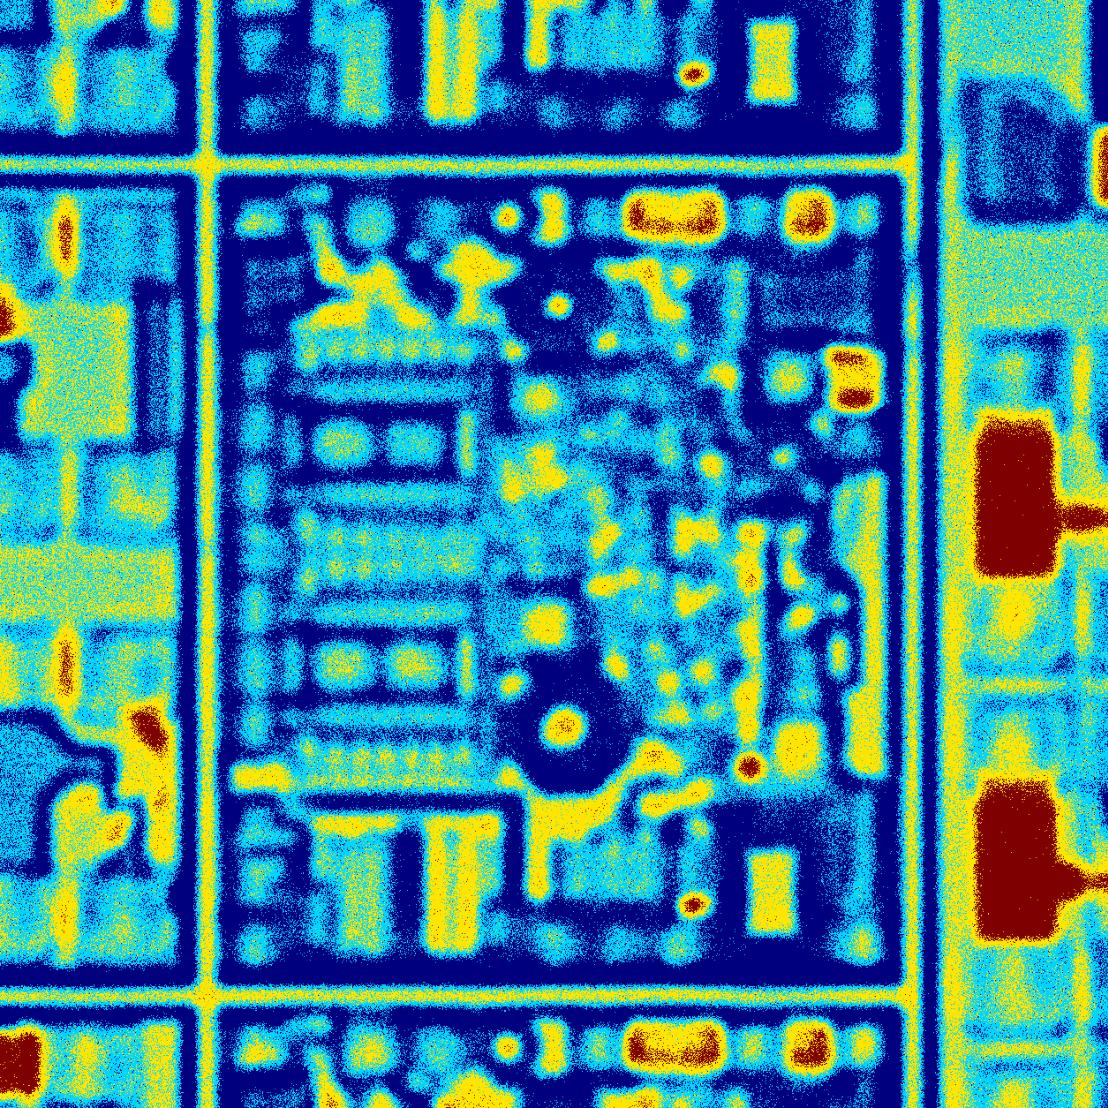Die: (208, 168, 906, 995)
Pad 1: (313, 416, 373, 469), (386, 420, 443, 468), (763, 351, 815, 403), (774, 719, 820, 774), (520, 601, 570, 649), (348, 199, 395, 246), (316, 644, 368, 683), (391, 645, 441, 683)
Pad 2: (839, 924, 884, 964)
